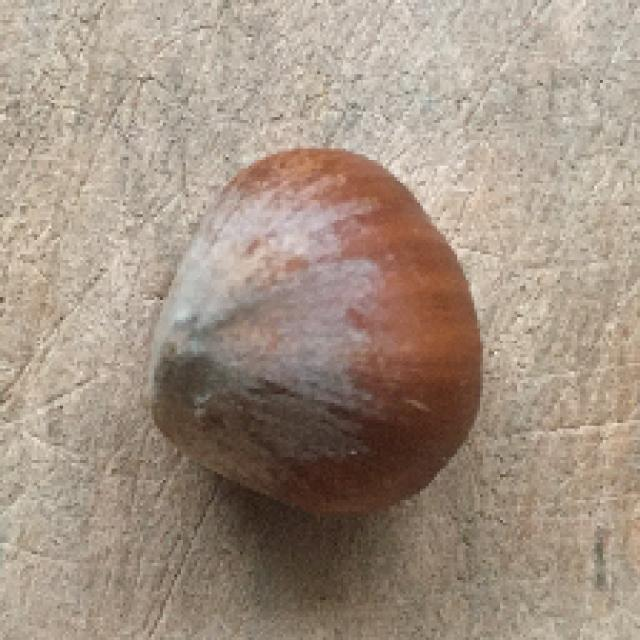QualityHazelnut: (144, 151, 489, 513)
